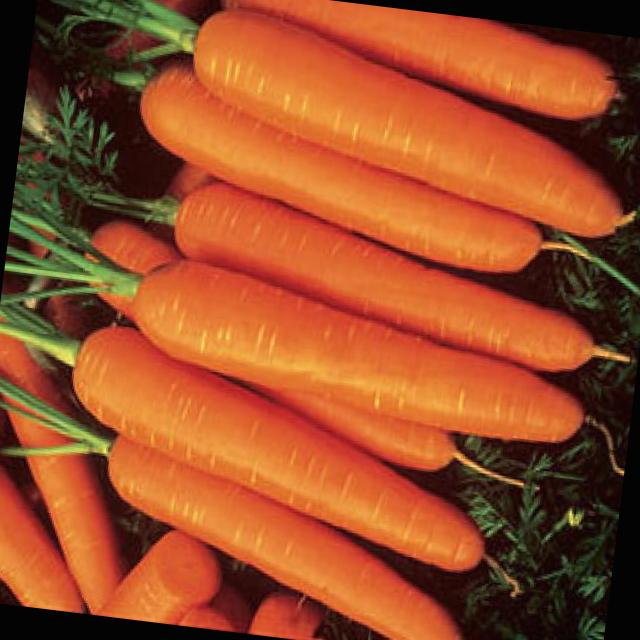carrot: (72, 323, 485, 569), (196, 8, 626, 237), (125, 256, 587, 441), (174, 178, 595, 372), (107, 434, 463, 640)
